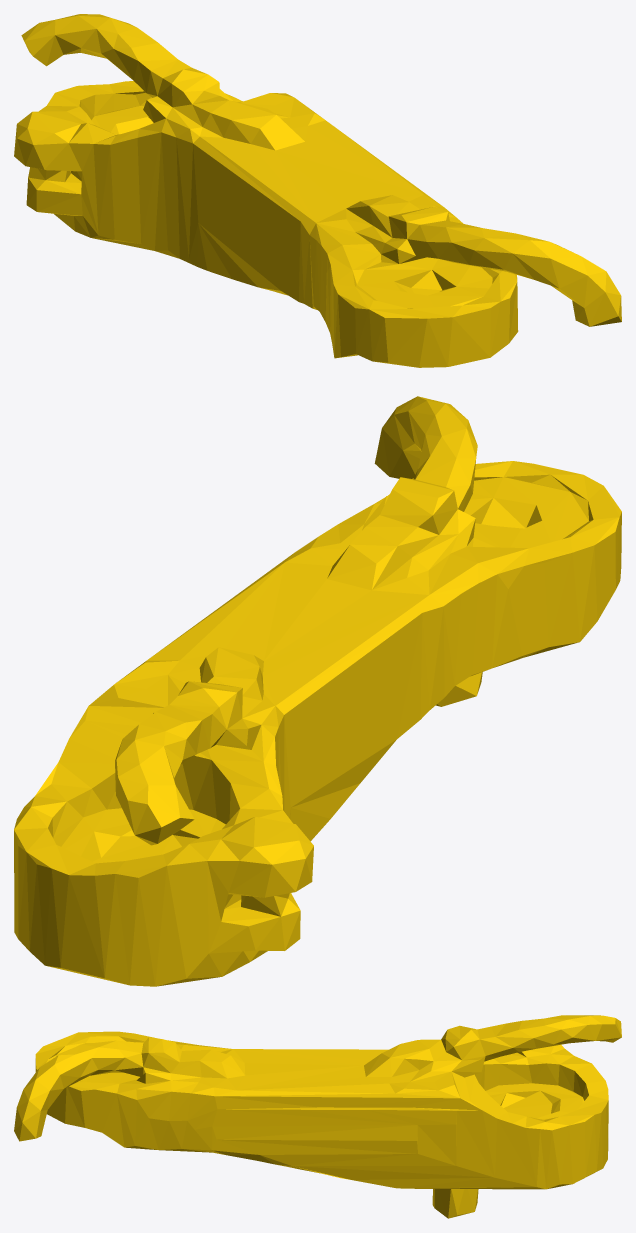
The picture shows the model from 3 angles, top to bottom: view 1: azimuth 30°, elevation 25°; view 2: azimuth 150°, elevation 25°; view 3: azimuth 270°, elevation 25°; orthographic projection. The views are drawn at different scales.
Visible parts, largest first — view 1: Node_0x7f98ee6ac800; view 2: Node_0x7f98ee6ac800; view 3: Node_0x7f98ee6ac800.
Part boxes in pixels (x1,y1,x2,y2): Node_0x7f98ee6ac800: [14, 14, 621, 367]; Node_0x7f98ee6ac800: [14, 396, 621, 986]; Node_0x7f98ee6ac800: [14, 1015, 621, 1218].
Bounding box in the file's own units: 0.6159 × 0.4608 × 1.55.
